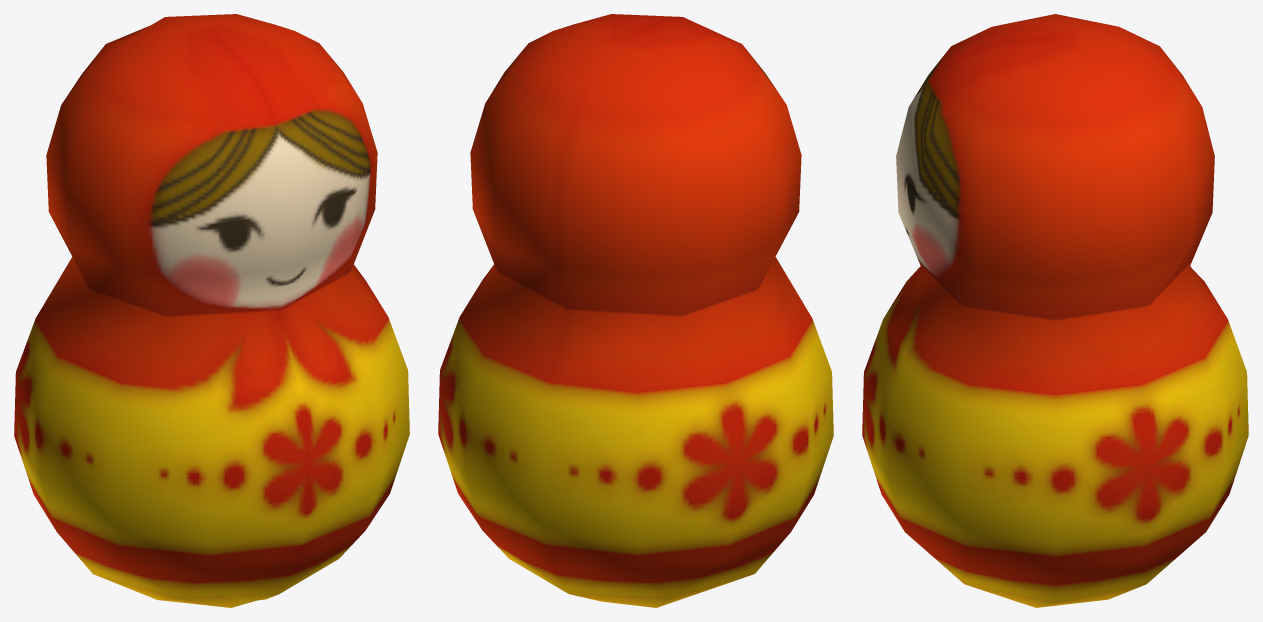
The model's file is daruma.fbx.
3 renders of one model, left to right at view 1: azimuth 30°, elevation 25°; view 2: azimuth 150°, elevation 25°; view 3: azimuth 270°, elevation 25°, orthographic.
Parts seen in each view (by area): view 1: Daruma; view 2: Daruma; view 3: Daruma.
Boxes of the visible parts, left/top/right/bottom form: Daruma: left=14, top=14, right=409, bottom=607; Daruma: left=438, top=14, right=833, bottom=607; Daruma: left=862, top=14, right=1248, bottom=607.
Size of the model in its own units: 5.32 by 8 by 5.2.
